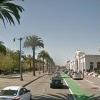Car: (48, 73, 66, 93)
